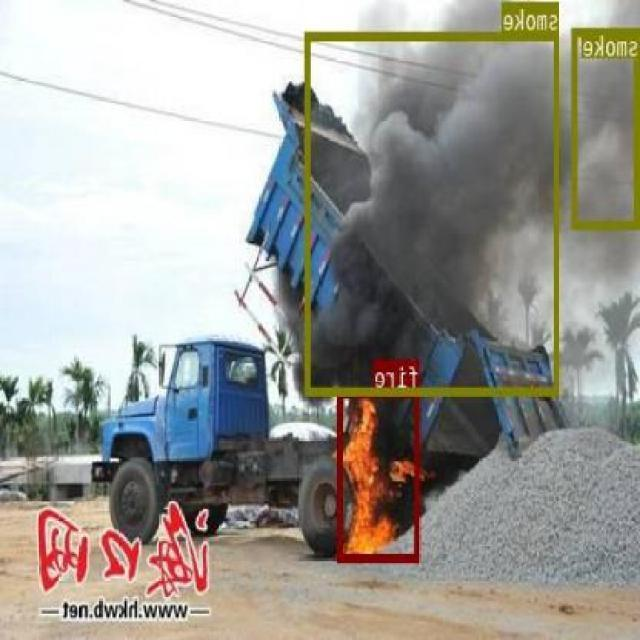Fire: (338, 389, 422, 560)
Smoke: (306, 30, 560, 395), (574, 27, 640, 227)
